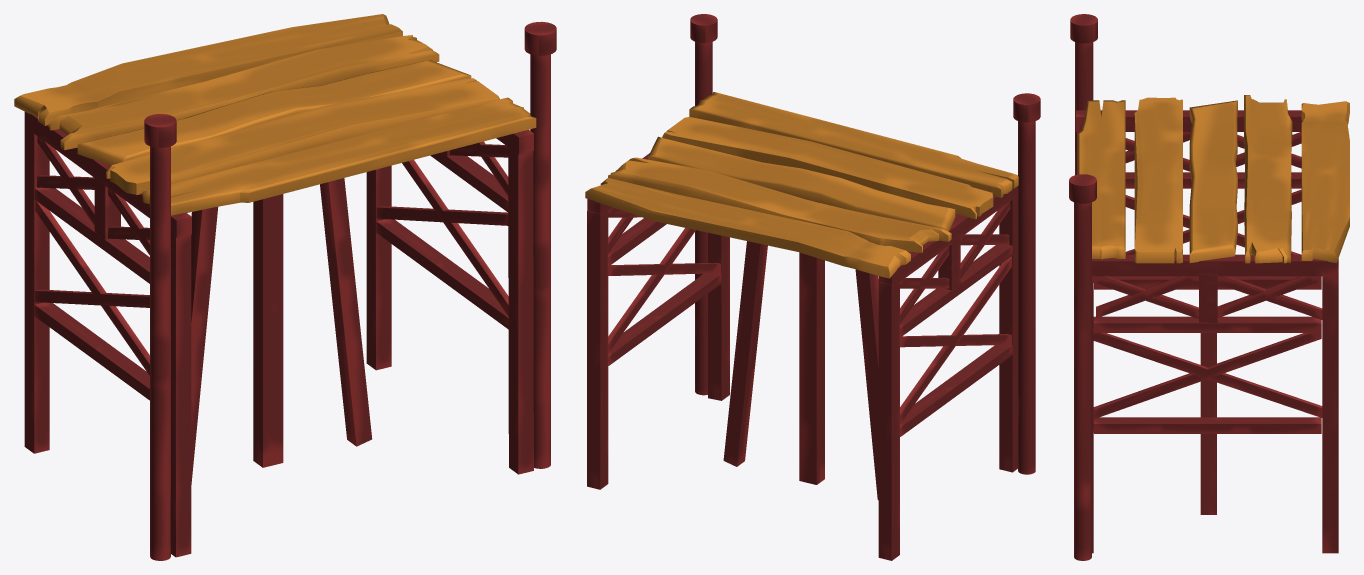
Rendered from Env_Harbor_Prop_Pier_03.fbx.
3 views of the same model, side by side, from view 1: azimuth 30°, elevation 25°; view 2: azimuth 150°, elevation 25°; view 3: azimuth 270°, elevation 25° (orthographic). The views are drawn at different scales.
Parts seen in each view (by area): view 1: Env_Harbor_Prop_Pier_03:polySurface98, Env_Harbor_Prop_Pier_03:polySurface97; view 2: Env_Harbor_Prop_Pier_03:polySurface98, Env_Harbor_Prop_Pier_03:polySurface97; view 3: Env_Harbor_Prop_Pier_03:polySurface98, Env_Harbor_Prop_Pier_03:polySurface97.
Boxes of the visible parts, <box> form: Env_Harbor_Prop_Pier_03:polySurface98: <box>24,21,556,560</box>; Env_Harbor_Prop_Pier_03:polySurface97: <box>14,14,536,215</box>; Env_Harbor_Prop_Pier_03:polySurface98: <box>587,14,1040,560</box>; Env_Harbor_Prop_Pier_03:polySurface97: <box>585,92,1018,278</box>; Env_Harbor_Prop_Pier_03:polySurface98: <box>1069,14,1338,560</box>; Env_Harbor_Prop_Pier_03:polySurface97: <box>1077,95,1349,263</box>.
Size of the model in its own units: 2183 by 2251 by 1507.
